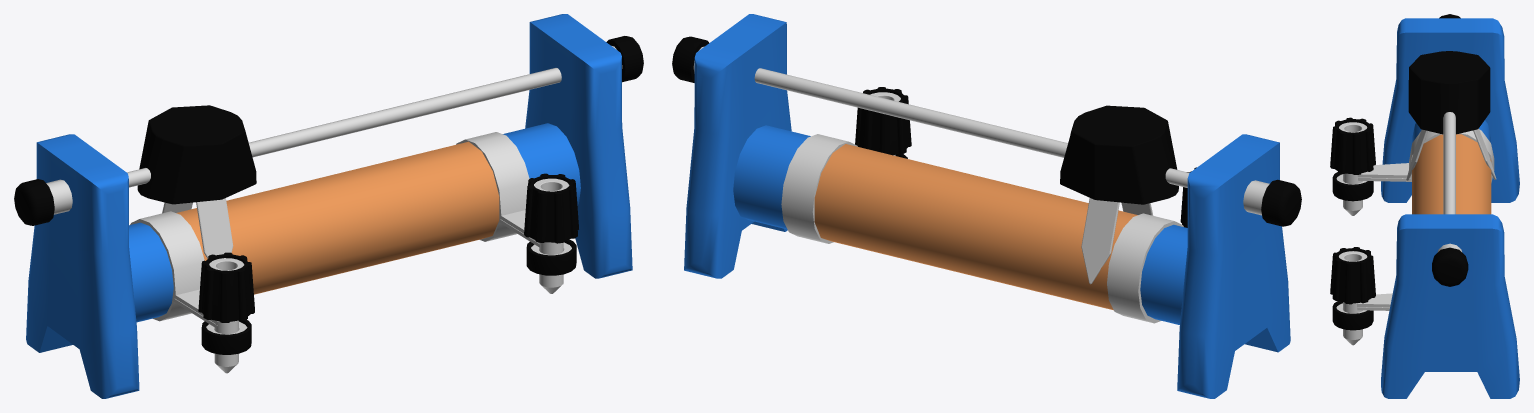
Rendered from Rheostate.fbx.
The picture shows the model from 3 angles, left to right: view 1: azimuth 30°, elevation 25°; view 2: azimuth 150°, elevation 25°; view 3: azimuth 270°, elevation 25°; orthographic projection. The views are drawn at different scales.
Visible parts, largest first — view 1: Cube, Cylinder.043, Cylinder.040, Cylinder.035, Cylinder.041, Cylinder.033, Cylinder.037, Cylinder.034, Cylinder.038; view 2: Cube, Cylinder.043, Cylinder.040, Cylinder.033, Cylinder.041, Cylinder.037, Cylinder.038, Cylinder.035; view 3: Cube, Cylinder.040, Cylinder.035, Cylinder.043, Cylinder.034, Cylinder.041, Cylinder.038, Cylinder.037, Cylinder.033.
Part boxes in pixels (x1,y1,x2,y2): Cube: (26, 14, 632, 398); Cylinder.043: (176, 141, 499, 294); Cylinder.040: (137, 105, 256, 258); Cylinder.035: (198, 173, 578, 334); Cylinder.041: (130, 132, 540, 327); Cylinder.033: (129, 123, 580, 322); Cylinder.037: (127, 68, 561, 187); Cylinder.034: (201, 239, 576, 373); Cylinder.038: (14, 36, 643, 225); Cube: (684, 14, 1290, 398); Cylinder.043: (814, 144, 1137, 310); Cylinder.040: (1060, 105, 1178, 284); Cylinder.033: (733, 125, 1187, 324); Cylinder.041: (781, 134, 1183, 323); Cylinder.037: (754, 68, 1189, 187); Cylinder.038: (672, 36, 1301, 226); Cylinder.035: (855, 87, 1196, 227); Cube: (1381, 18, 1519, 398); Cylinder.040: (1406, 51, 1496, 180); Cylinder.035: (1330, 117, 1375, 313); Cylinder.043: (1412, 134, 1491, 214); Cylinder.034: (1332, 172, 1373, 345); Cylinder.041: (1357, 129, 1494, 310); Cylinder.038: (1432, 14, 1468, 286); Cylinder.037: (1443, 112, 1455, 214); Cylinder.033: (1412, 120, 1490, 142).
Size of the model in its own units: 370 by 123 by 122.
